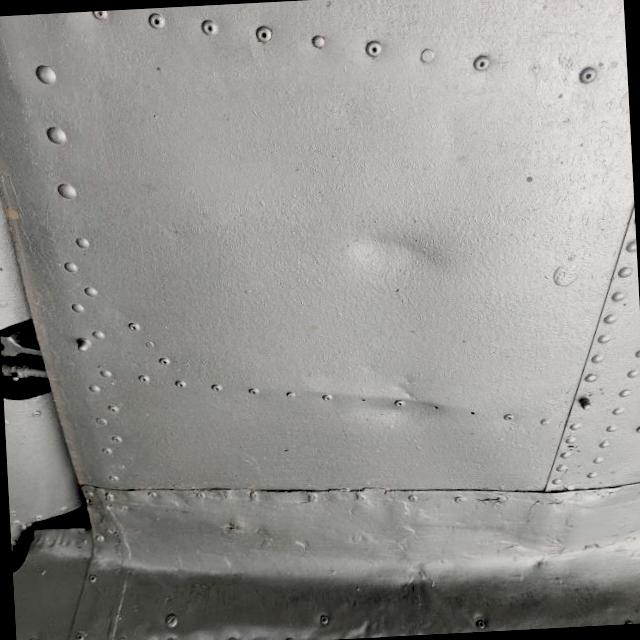dent: (329, 193, 465, 319), (324, 349, 453, 466)
